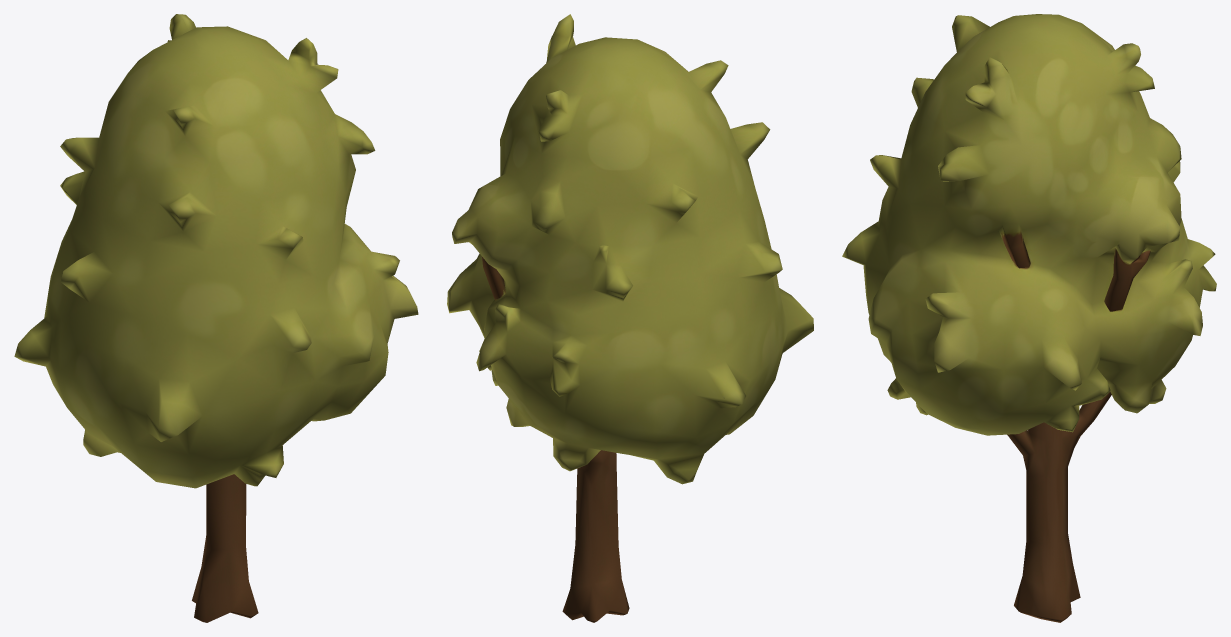
Rendered from map_tree_b_tripo.glb.
3 renders of one model, left to right at view 1: azimuth 30°, elevation 25°; view 2: azimuth 150°, elevation 25°; view 3: azimuth 270°, elevation 25°, orthographic. The views are drawn at different scales.
Visible parts, largest first — view 1: tripo_node_69af03a3-6394-4466-8701-8c0531c69c9c; view 2: tripo_node_69af03a3-6394-4466-8701-8c0531c69c9c; view 3: tripo_node_69af03a3-6394-4466-8701-8c0531c69c9c.
Boxes of the visible parts, left/top/right/bottom form: tripo_node_69af03a3-6394-4466-8701-8c0531c69c9c: left=14, top=14, right=418, bottom=622; tripo_node_69af03a3-6394-4466-8701-8c0531c69c9c: left=447, top=14, right=813, bottom=622; tripo_node_69af03a3-6394-4466-8701-8c0531c69c9c: left=842, top=14, right=1216, bottom=622.
Bounding box in the file's own units: 0.5723 × 0.998 × 0.5801.
Materials: 1 (1 with a texture image).
